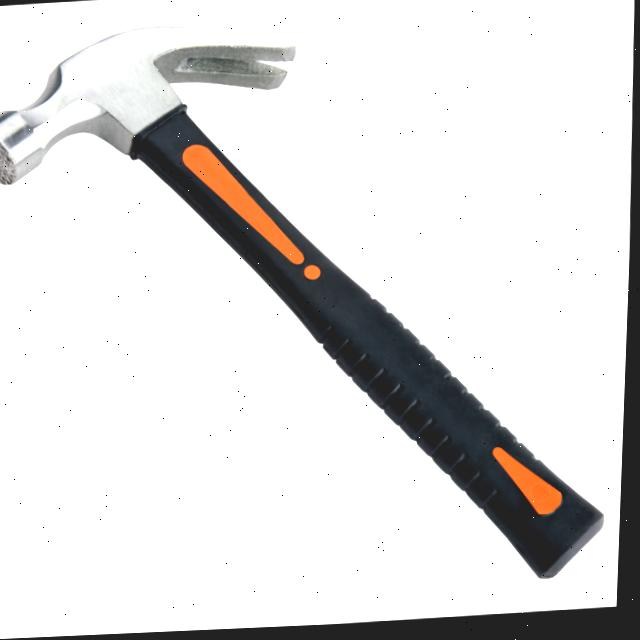hammer: (0, 0, 634, 626)
